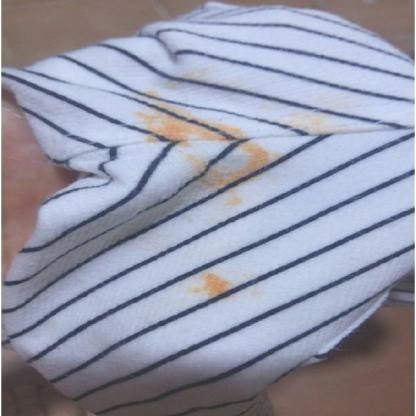kimchi: (142, 102, 238, 145), (291, 109, 343, 141), (193, 152, 238, 185), (194, 268, 234, 302), (240, 138, 278, 168), (182, 65, 220, 85), (228, 188, 248, 205), (149, 85, 163, 102)
